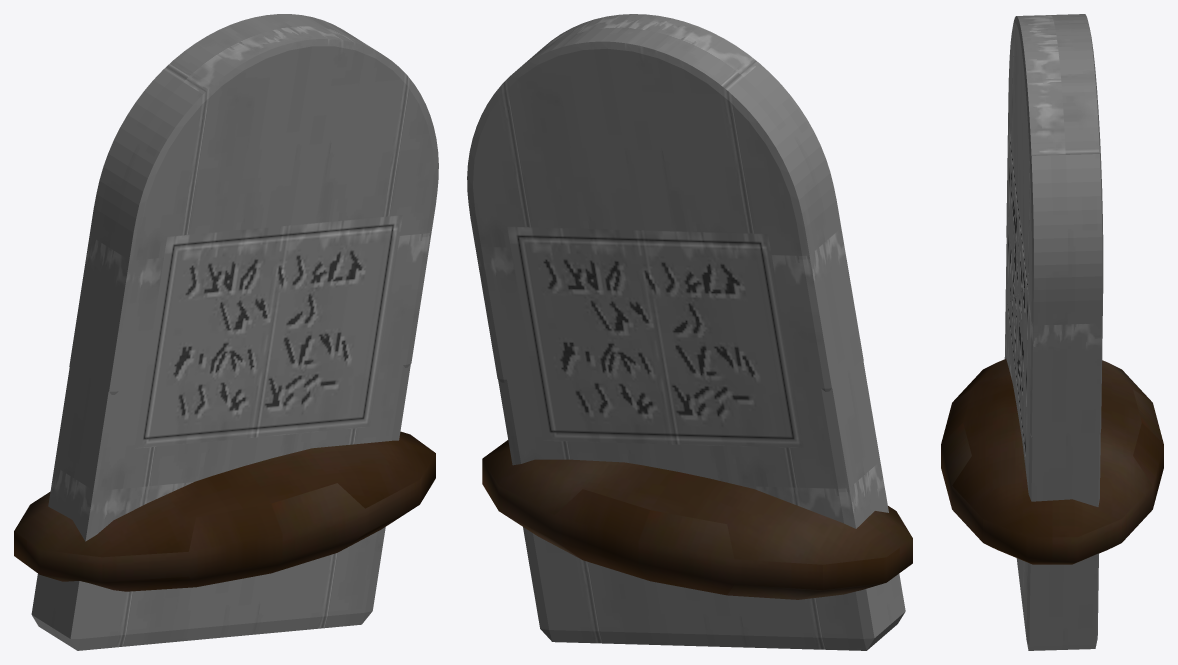
The model's file is tstone5.glb.
The picture shows the model from 3 angles, left to right: view 1: azimuth 30°, elevation 25°; view 2: azimuth 150°, elevation 25°; view 3: azimuth 270°, elevation 25°; orthographic projection. The views are drawn at different scales.
Visible parts, largest first — view 1: box; view 2: box; view 3: box.
Part boxes in pixels (x1,y1,x2,y2): box: (14, 14, 438, 650); box: (467, 14, 912, 650); box: (941, 14, 1163, 650).
Bounding box in the file's own units: 0.7676 × 1.1 × 0.3817.
Materials: 4 (4 with a texture image).
